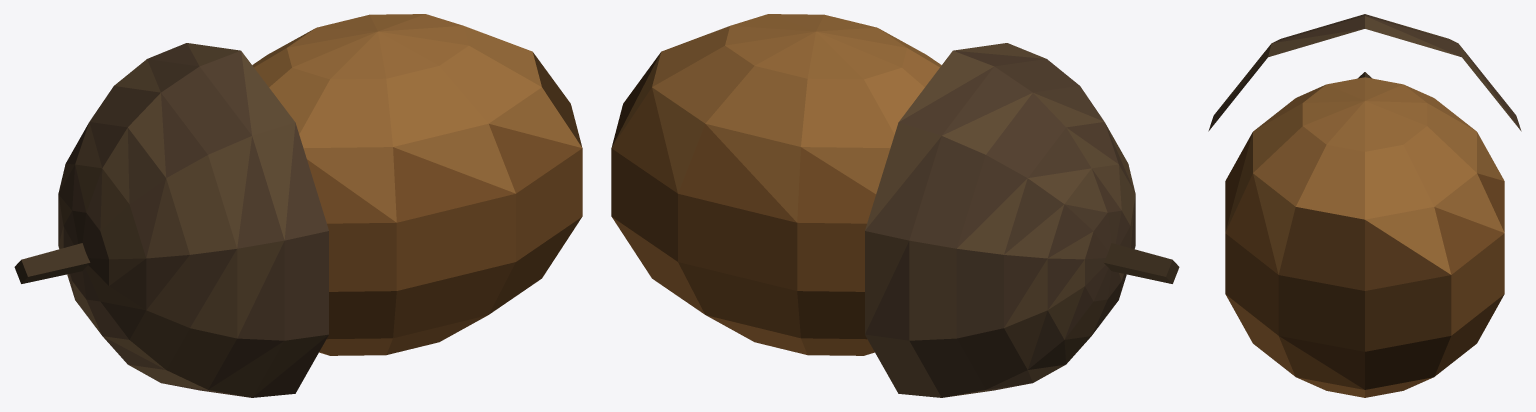
The model's file is food-acorn.glb.
3 renders of one model, left to right at view 1: azimuth 30°, elevation 25°; view 2: azimuth 150°, elevation 25°; view 3: azimuth 270°, elevation 25°, orthographic. The views are drawn at different scales.
Size of the model in its own units: 2.81 by 1.64 by 1.56.
